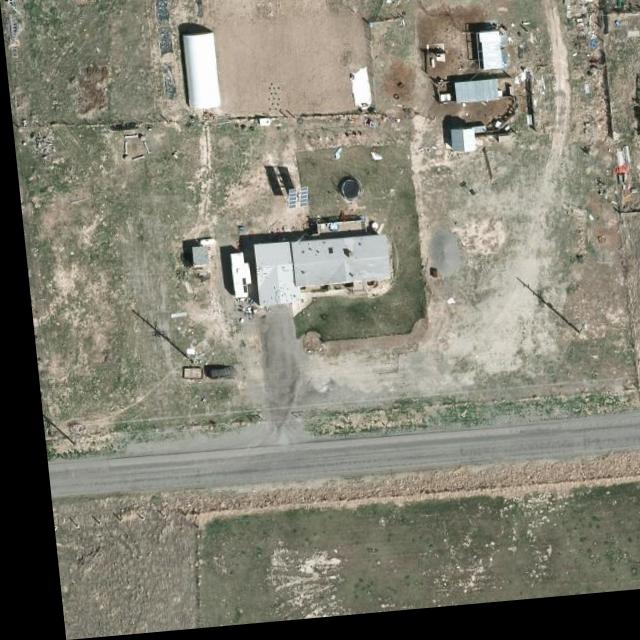vehicle: (201, 371, 228, 385)
